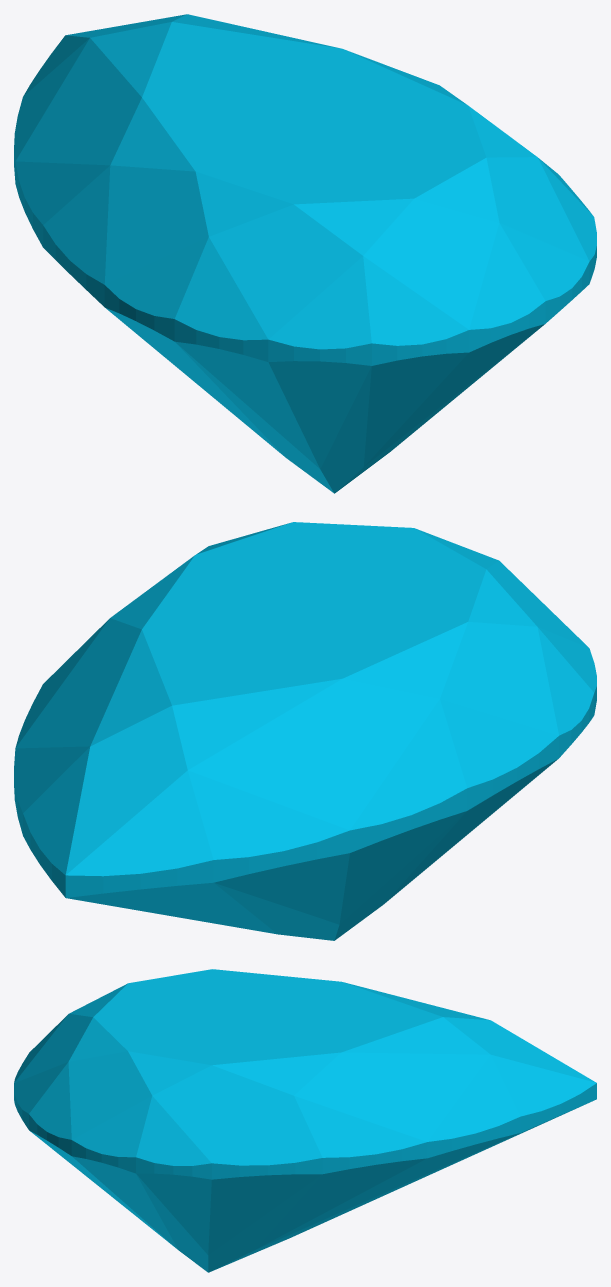
File: Head_Single Halo_Pear_3.0ct_Diamond.glb
The picture shows the model from 3 angles, top to bottom: view 1: azimuth 30°, elevation 25°; view 2: azimuth 150°, elevation 25°; view 3: azimuth 270°, elevation 25°; orthographic projection. The views are drawn at different scales.
Size of the model in its own units: 0.00785 by 0.00584 by 0.0121.
